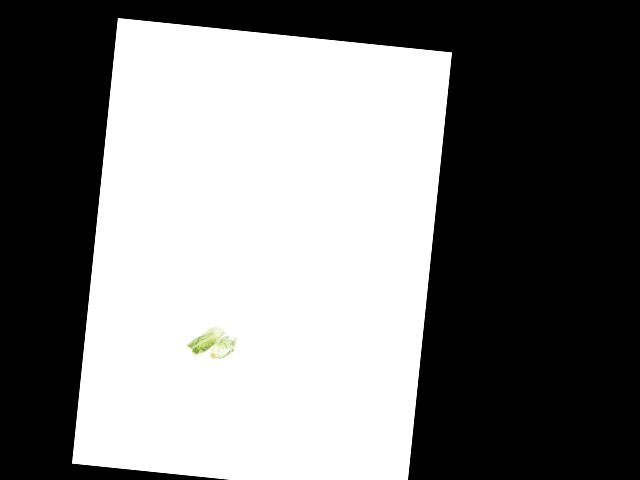lettuce: (187, 323, 239, 366)
